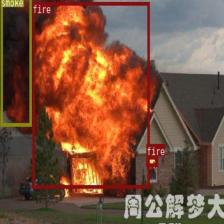fire: (32, 1, 150, 188), (146, 156, 158, 166)
smoke: (0, 0, 31, 125)
